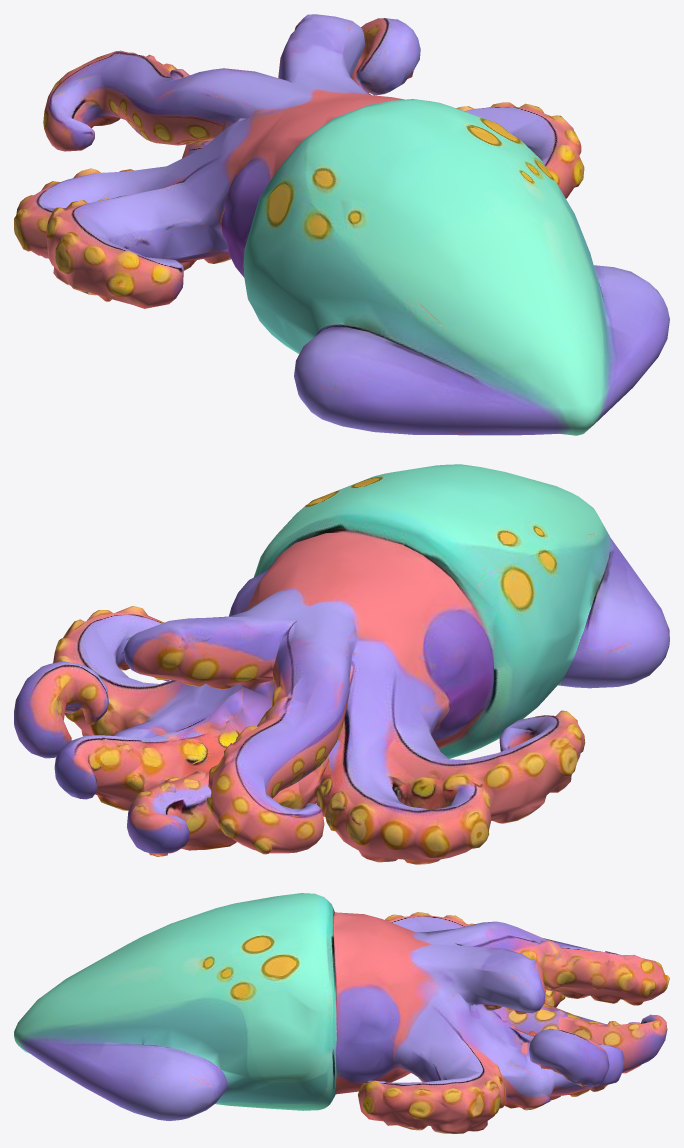
File: squid.glb
3 renders of one model, top to bottom at view 1: azimuth 30°, elevation 25°; view 2: azimuth 150°, elevation 25°; view 3: azimuth 270°, elevation 25°, orthographic. The views are drawn at different scales.
Parts seen in each view (by area): view 1: Mesh_0; view 2: Mesh_0; view 3: Mesh_0.
Part boxes in pixels (x1,y1,x2,y2): Mesh_0: (14, 14, 669, 435); Mesh_0: (14, 464, 669, 864); Mesh_0: (14, 893, 669, 1133).
Bounding box in the file's own units: 1.28 × 0.604 × 1.9.
Materials: 1 (1 with a texture image).
